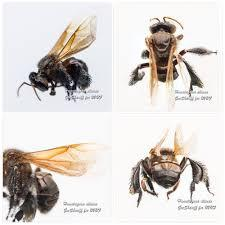Meliponula: (23, 12, 100, 107), (0, 139, 83, 225), (121, 126, 211, 205), (125, 10, 204, 93)
